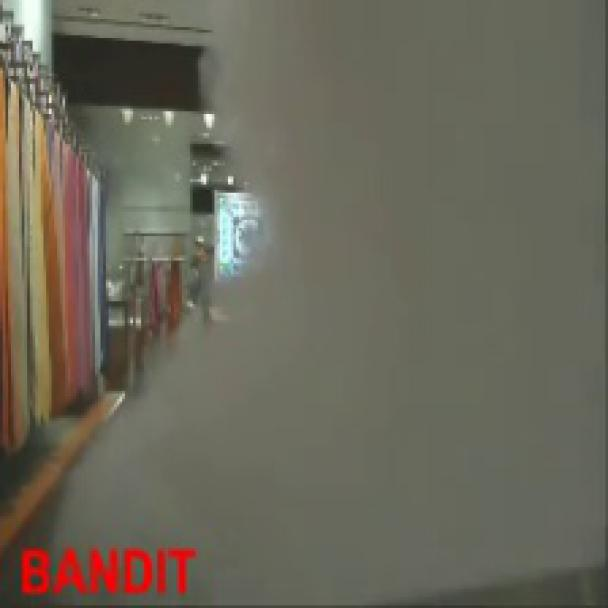smoke: (60, 11, 605, 605)
